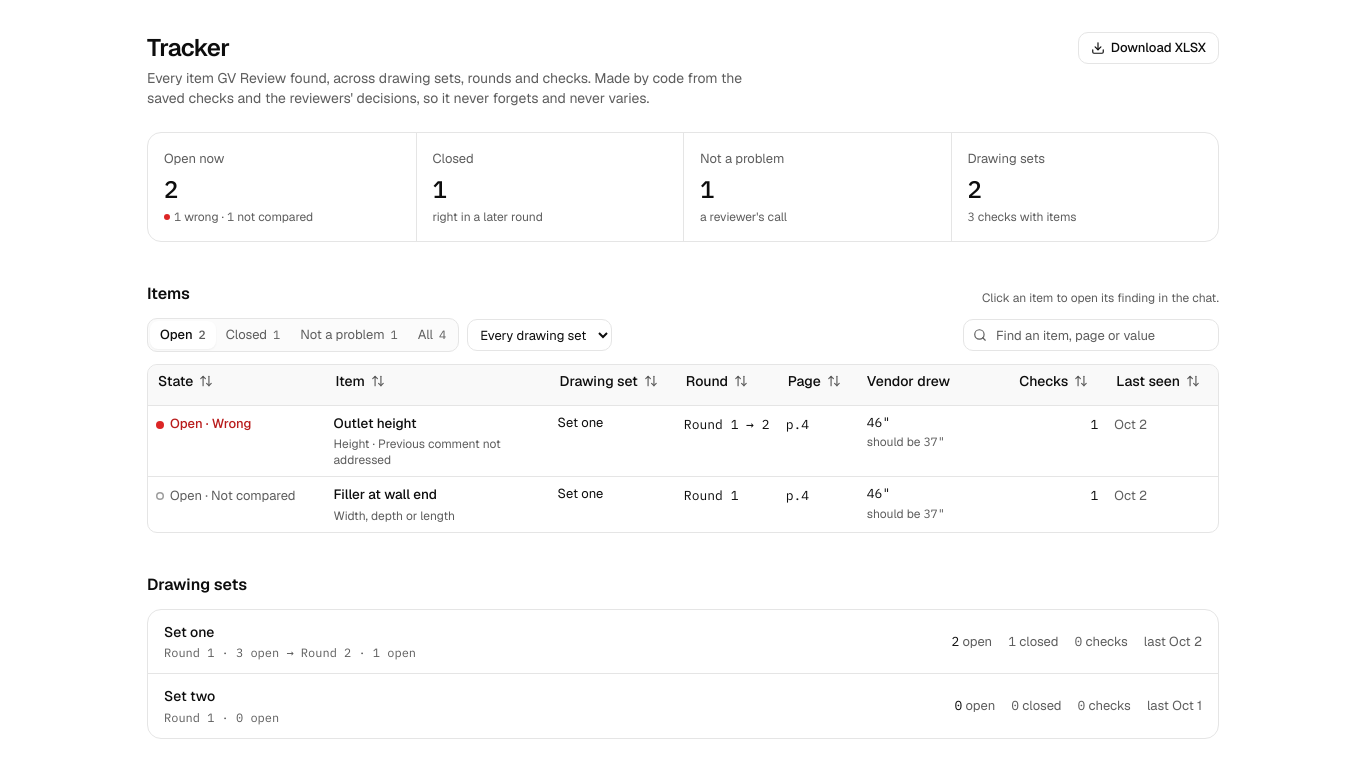
the tracker page (#1578) › shows the numbers once, open items first, and opens an item in its chat
Expected: the text "Open · Wrong" is shown, [156,415,251,434]
Expected: the text "· Previous comment not addressed" is shown, [334,436,501,468]
Step 1. Click the button "Outlet height" → (438, 423), box [334,414,542,432]
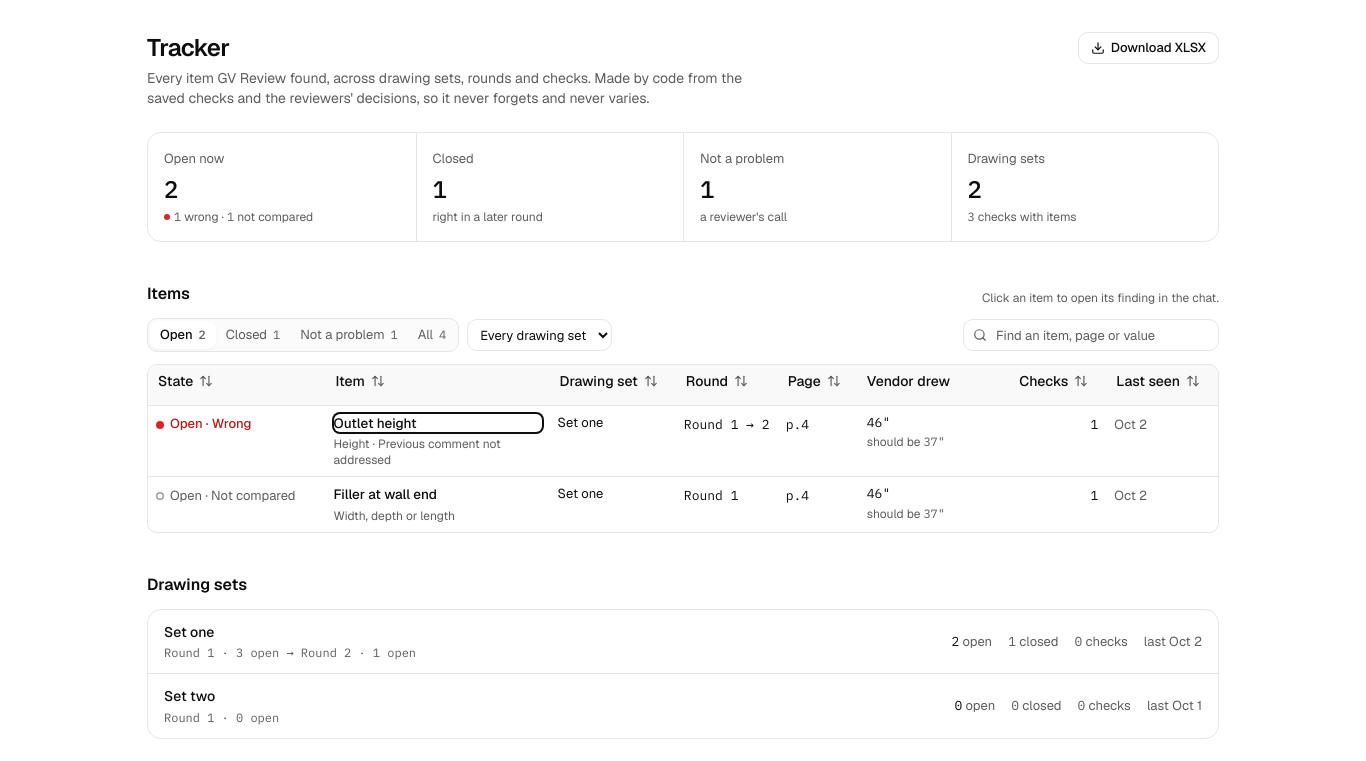
Step 2. Click the button "Closed 1" → (253, 335), box [216,321,290,349]
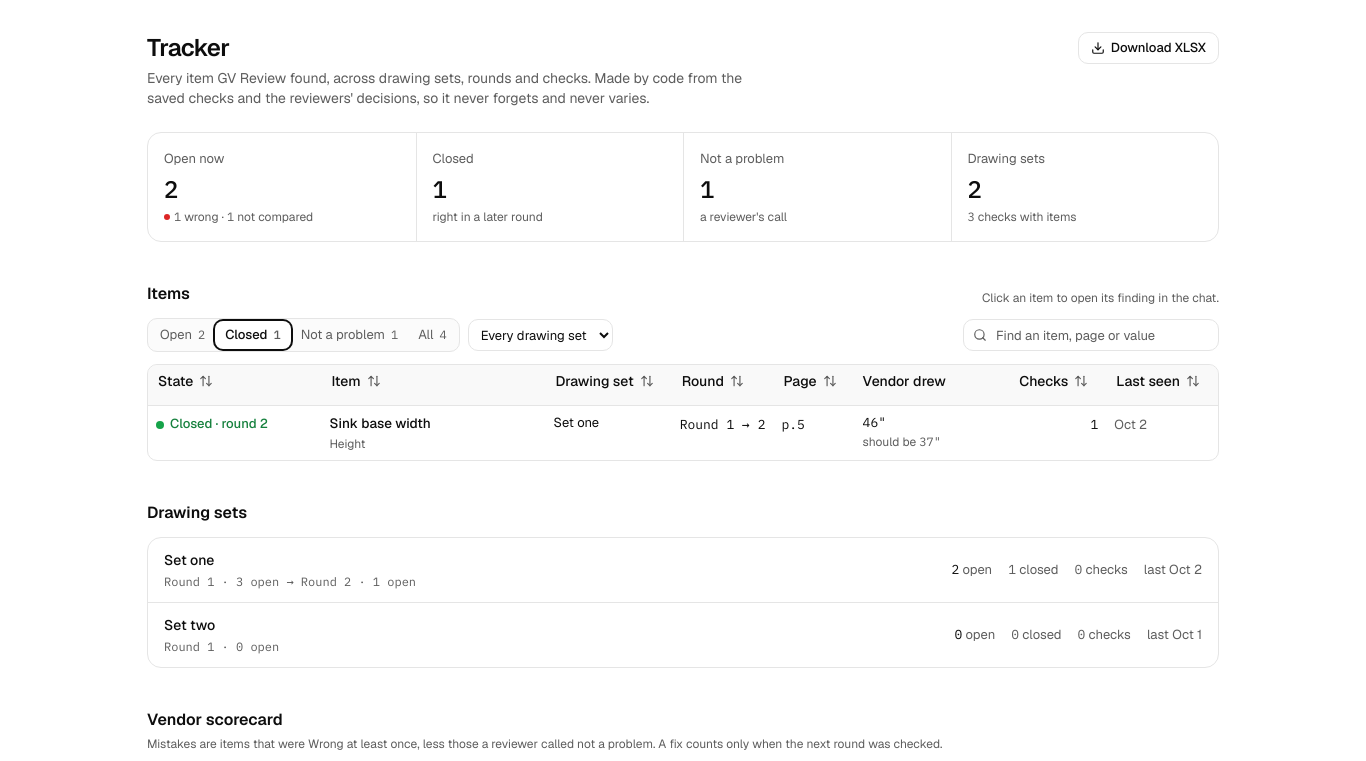
Result: the text "Closed · round 2" is shown at [156,415,268,434]
Step 3. Select "Set two" in the dropdown named "Drawing set" → (540, 335), box [468,319,613,351]
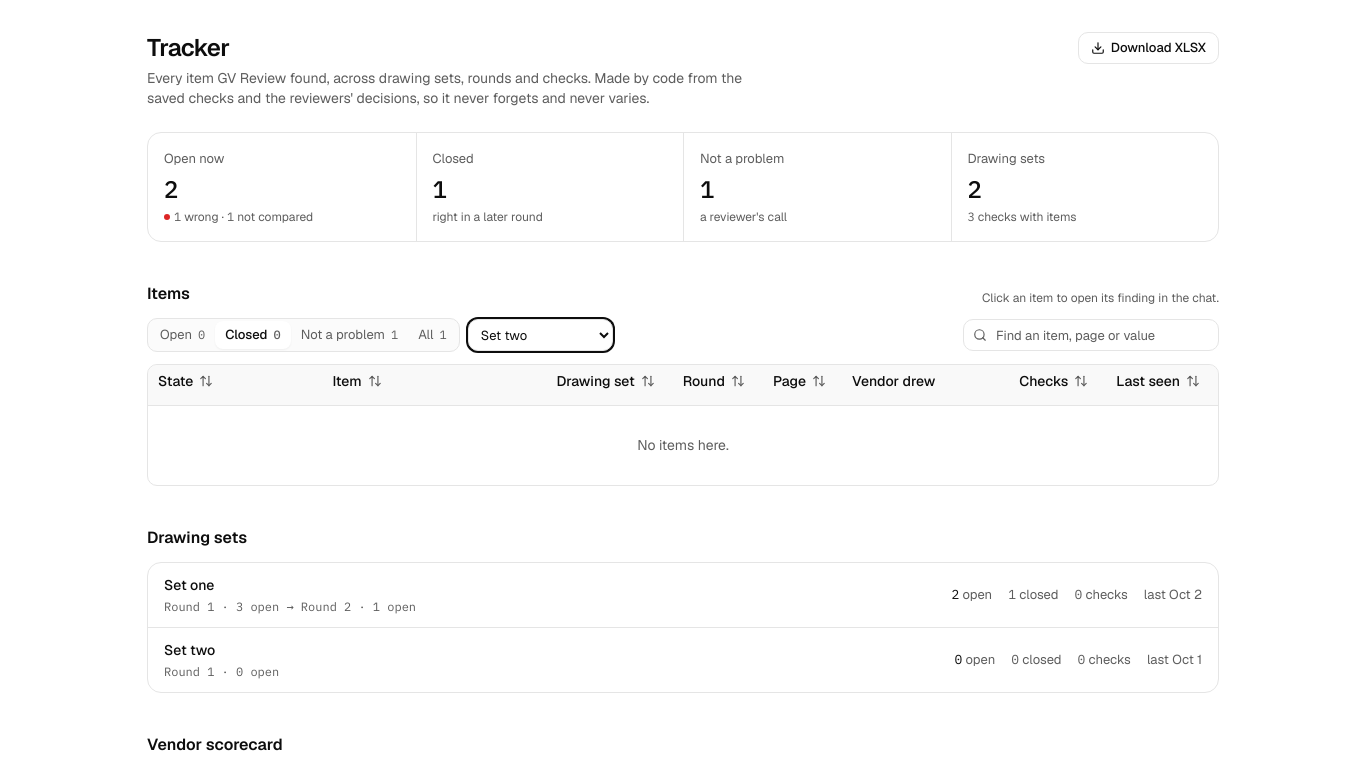
Step 4. Click the button "All 1" → (432, 335), box [408,321,457,349]
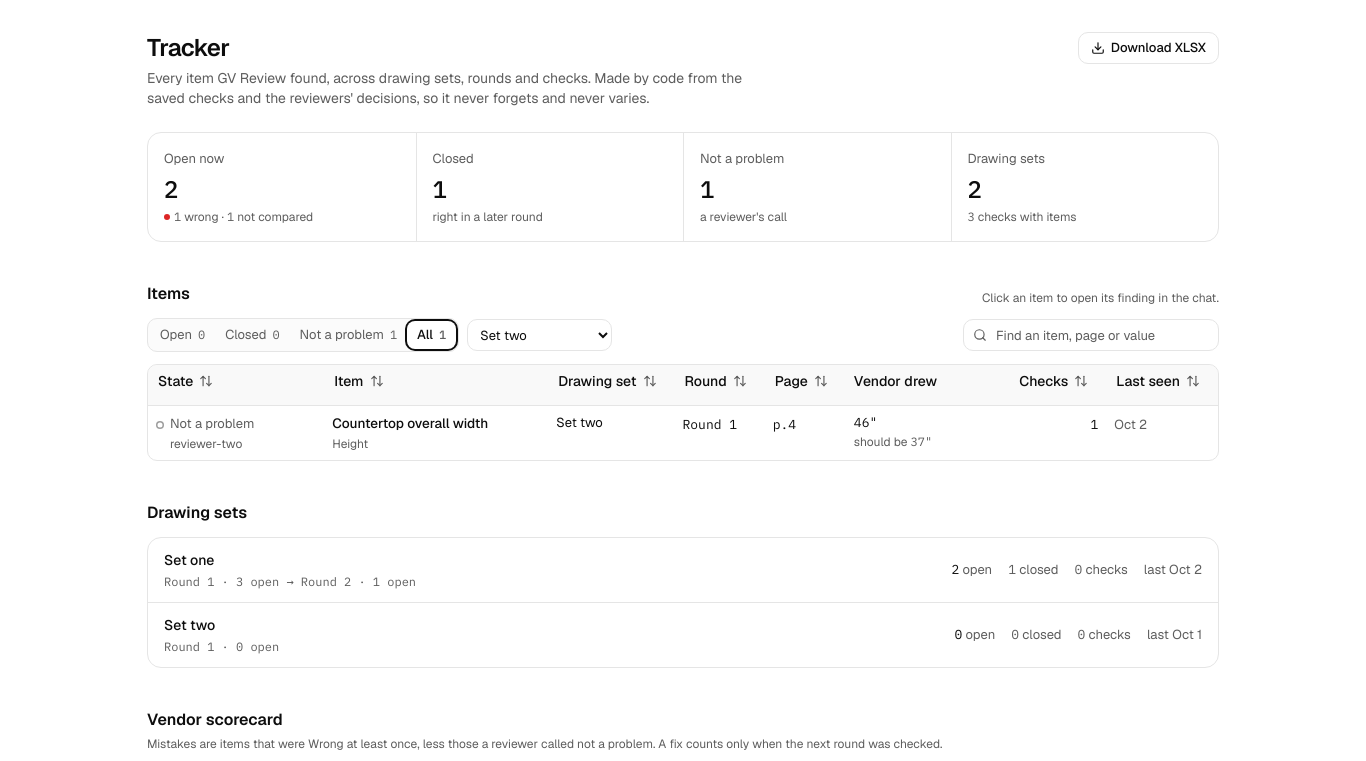
Result: the text "Countertop overall width" is shown at [332,414,488,432]
